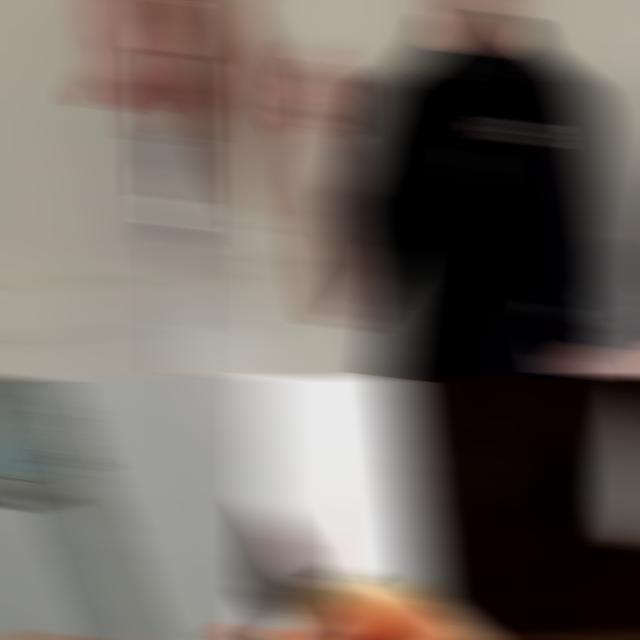Knife_Handle: (250, 376, 510, 640), (68, 0, 245, 378), (279, 30, 368, 339)
